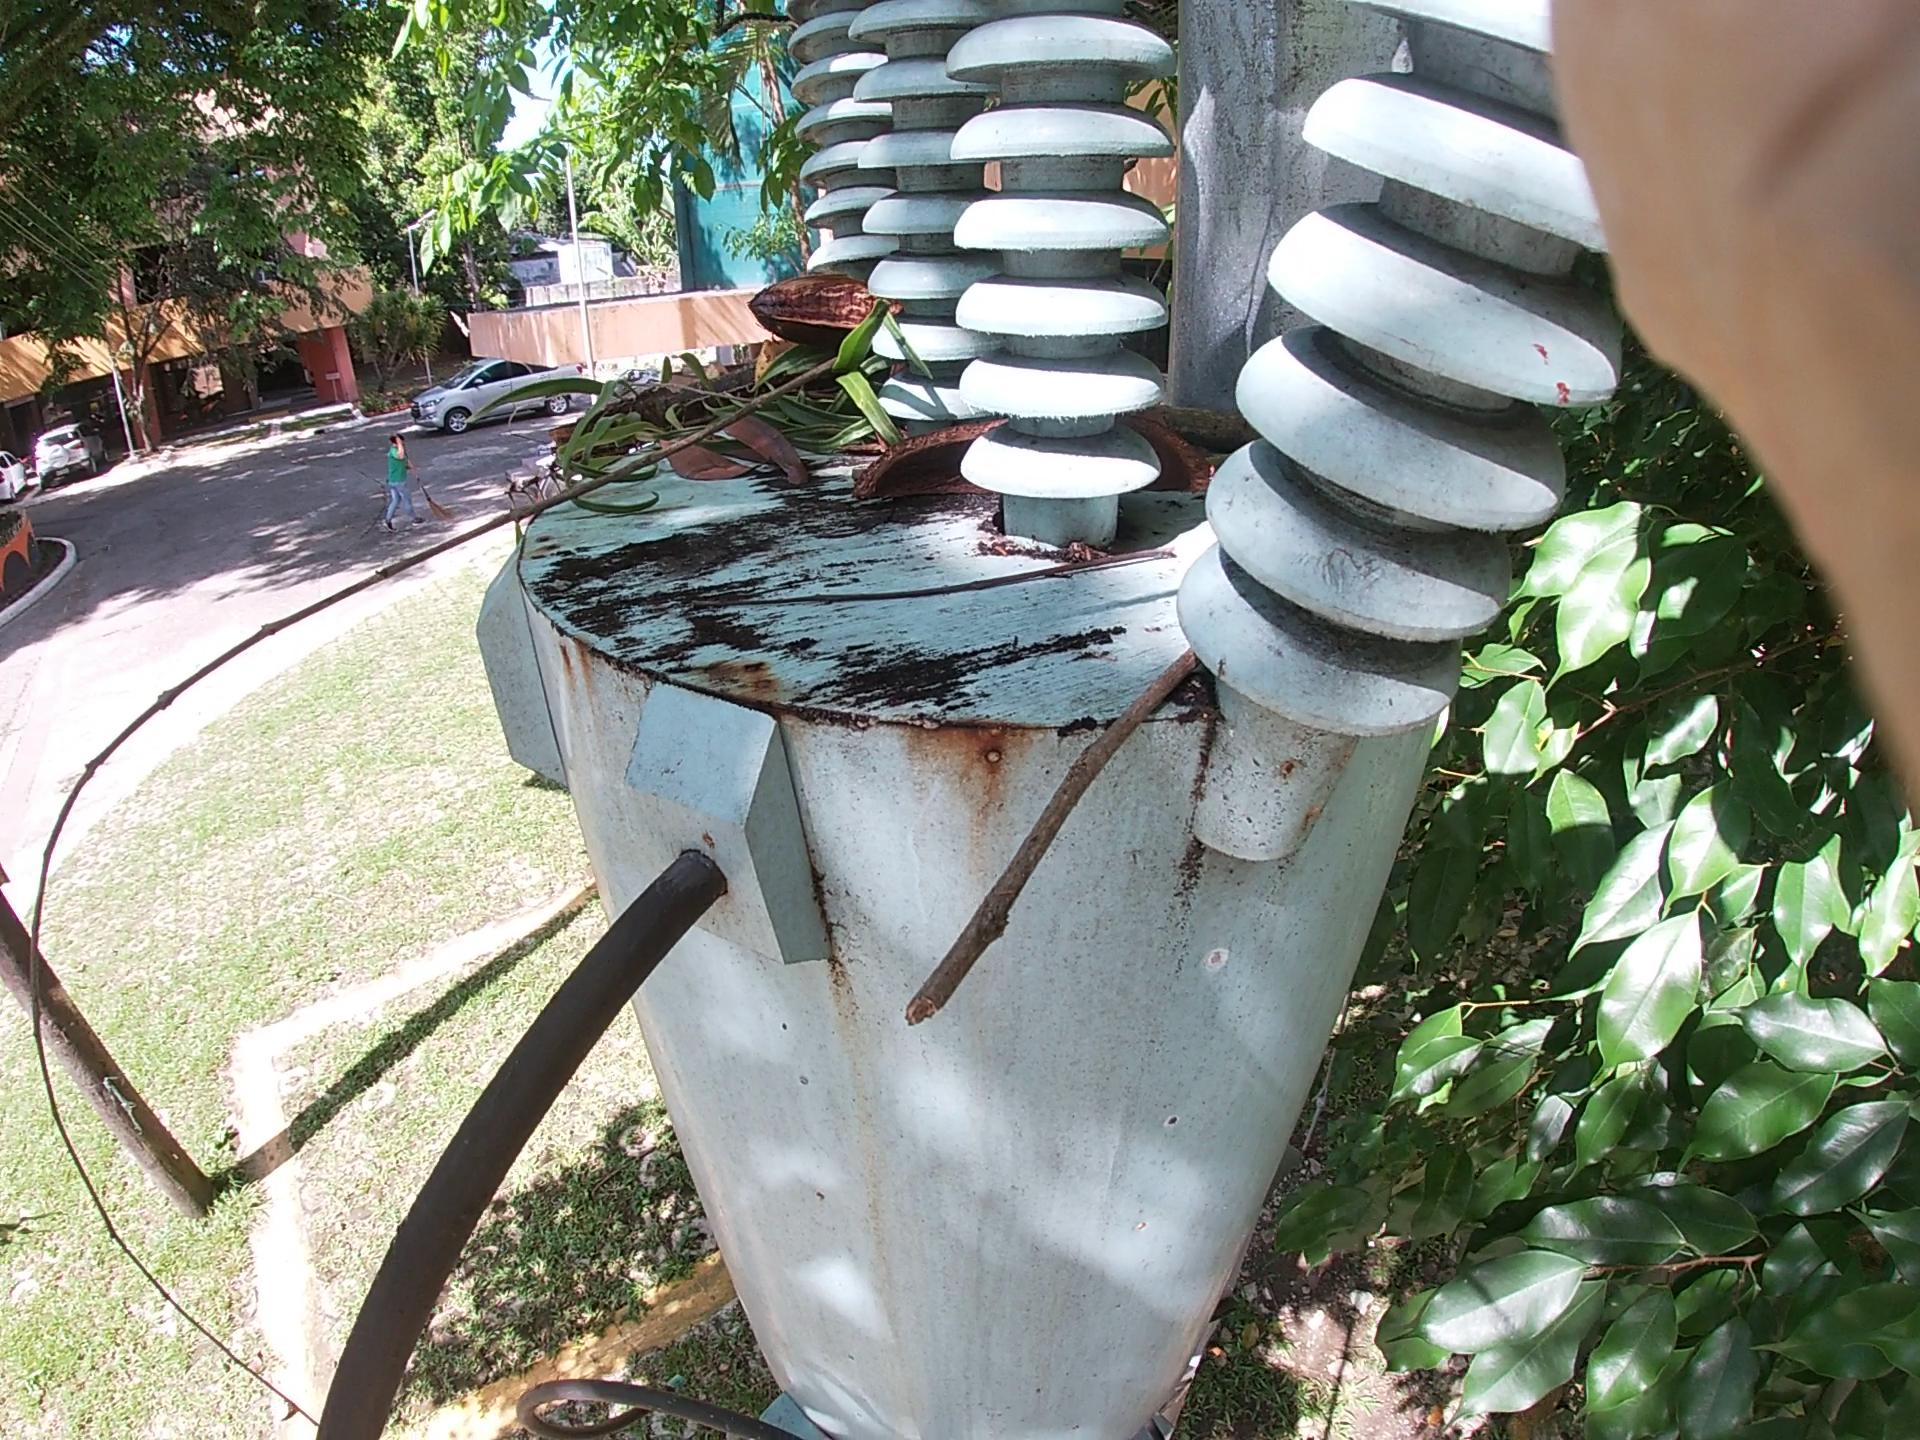branch with leaves: (420, 247, 1105, 517)
leaf: (568, 355, 807, 501)
mahogany fruit: (859, 390, 1052, 504), (739, 256, 931, 360)
tree branch: (30, 266, 1017, 862), (943, 585, 1197, 1023), (1154, 251, 1368, 554)
